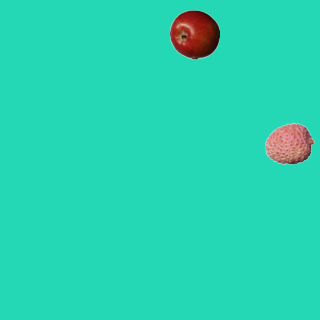Apple Braeburn: (169, 9, 219, 59)
Lychee: (264, 118, 314, 168)
